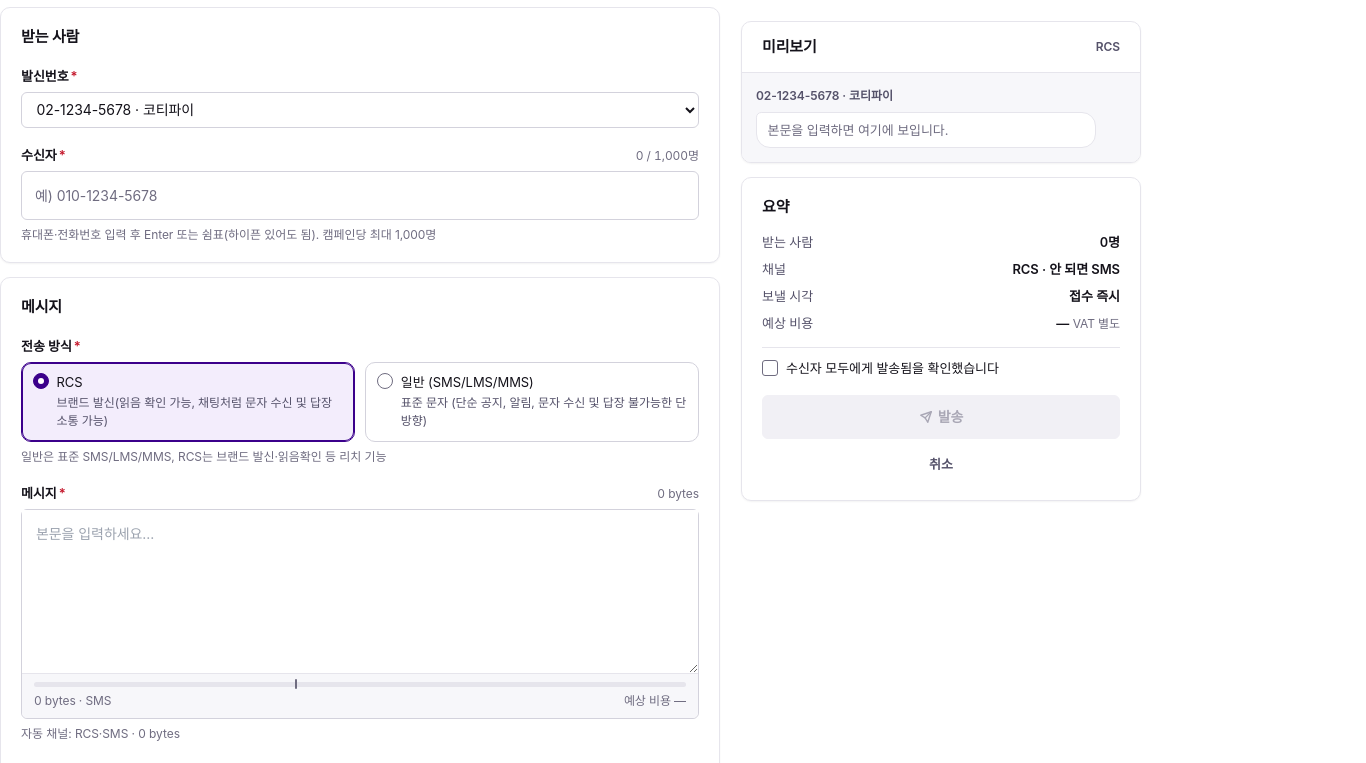
ComposeForm 전송 방식 기본값 › RCS 가 미리 선택되어 견적이 바로 보이고, 일반으로 바꿀 수 있다
This screenshot has width=1366, height=763.
Expected: the dropdown labelled "발신번호*" shows "02-1234-5678 · 코티파이", [21,92,699,128]
Expected: the radio button labelled "RCS 브랜드 발신(읽음 확인 가능, 채팅처럼 문자 수신 및 답장 소통 가능)" is checked, [22,362,354,441]
Click the radio button labelled "일반 (SMS/LMS/MMS) 표준 문자 (단순 공지, 알림, 문자 수신 및 답장 불가능한 단방향)" at [532, 402], box [366,362,698,441]
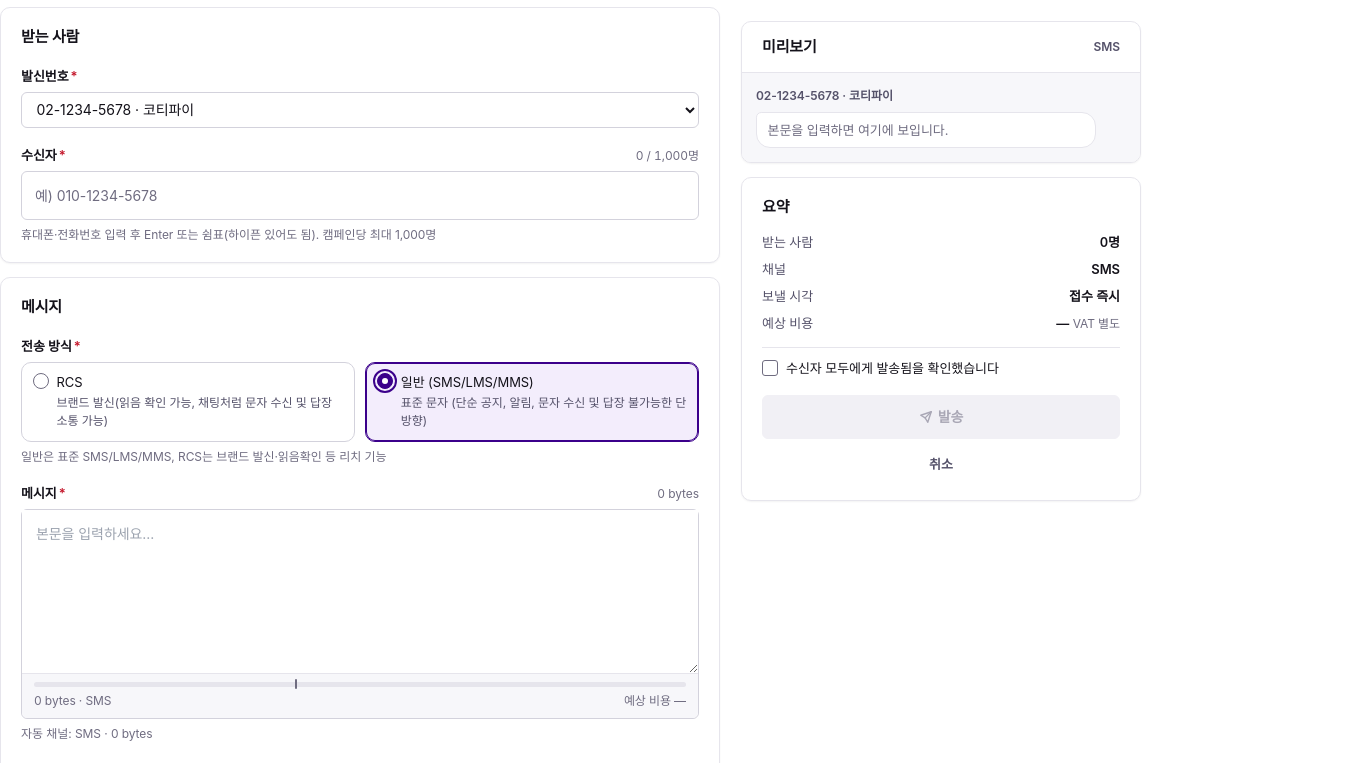
Now the radio button labelled "일반 (SMS/LMS/MMS) 표준 문자 (단순 공지, 알림, 문자 수신 및 답장 불가능한 단방향)" is checked, box [366,362,698,441]
Now the text "자동 채널: SMS · 0 bytes" is shown, box [21,726,152,741]
